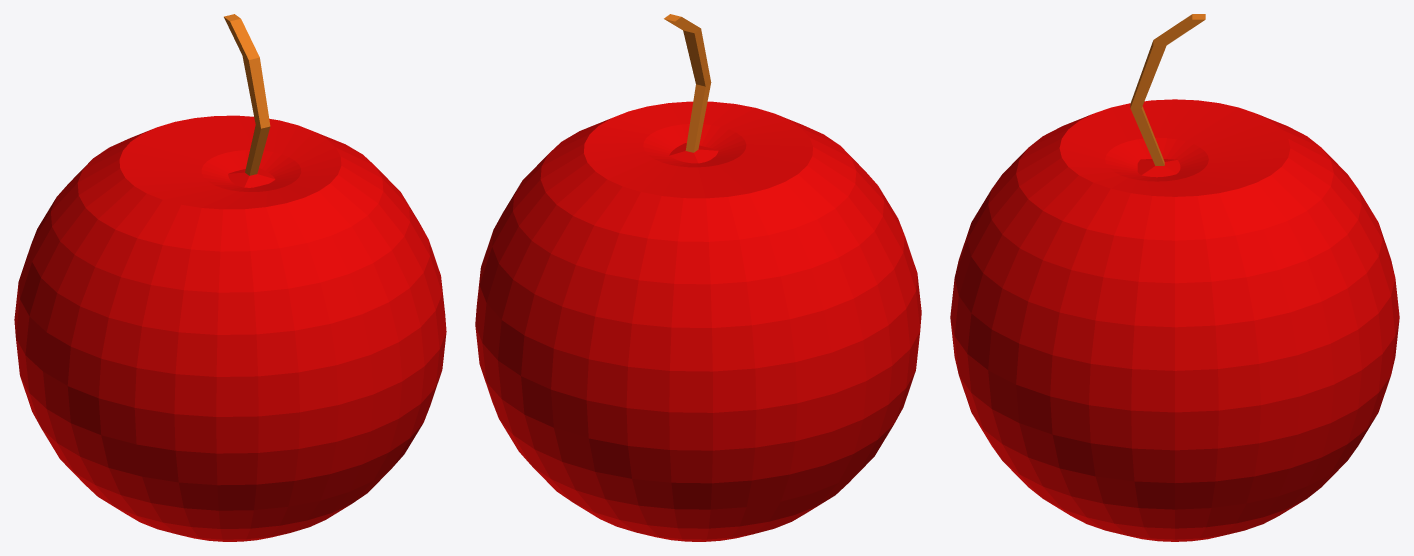
The model's file is Elma.fbx.
The picture shows the model from 3 angles, left to right: view 1: azimuth 30°, elevation 25°; view 2: azimuth 150°, elevation 25°; view 3: azimuth 270°, elevation 25°; orthographic projection. The views are drawn at different scales.
Visible parts, largest first — view 1: Cube; view 2: Cube; view 3: Cube.
Part boxes in pixels (x1,y1,x2,y2): Cube: [14, 14, 446, 541]; Cube: [475, 14, 921, 541]; Cube: [950, 14, 1399, 541].
Size of the model in its own units: 20 by 25.1 by 20.
